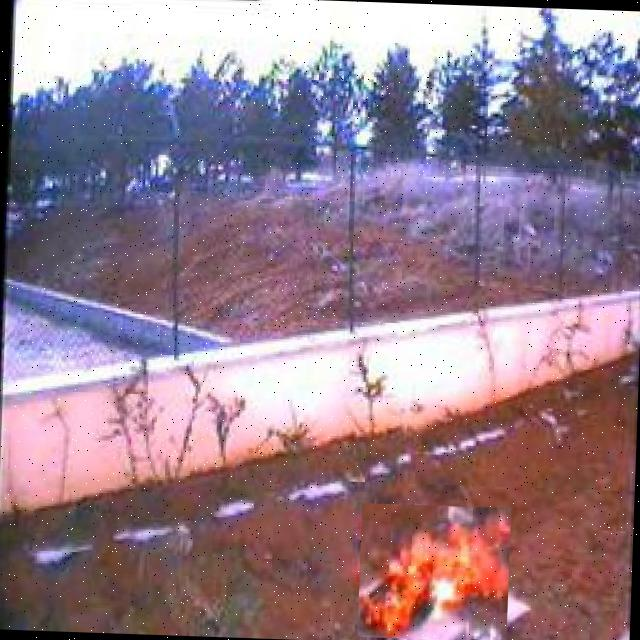fire: (357, 502, 511, 640)
